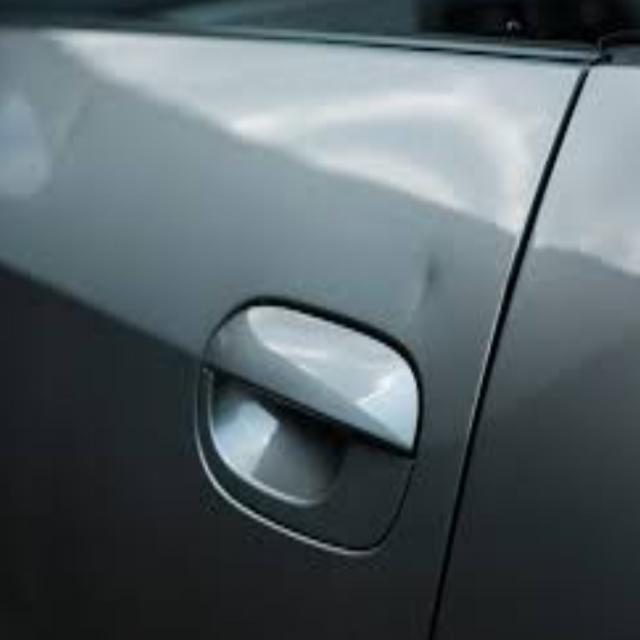dents: (404, 232, 455, 334)
